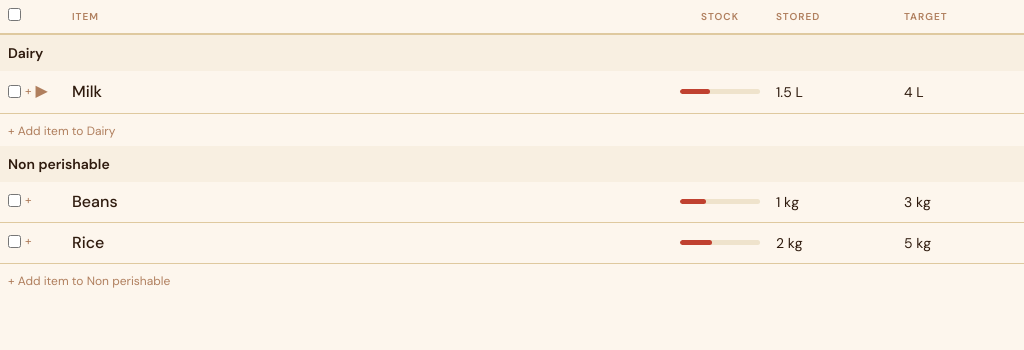
Scenario: InventoryTable › 20.5 — Per-category add button › clicking the button opens an inline NewItemRow with the category pre-filled
The width and height of the screenshot is (1024, 350).
Click the button "+ Add item to Dairy" at (62, 130), box [8,122,115,138]
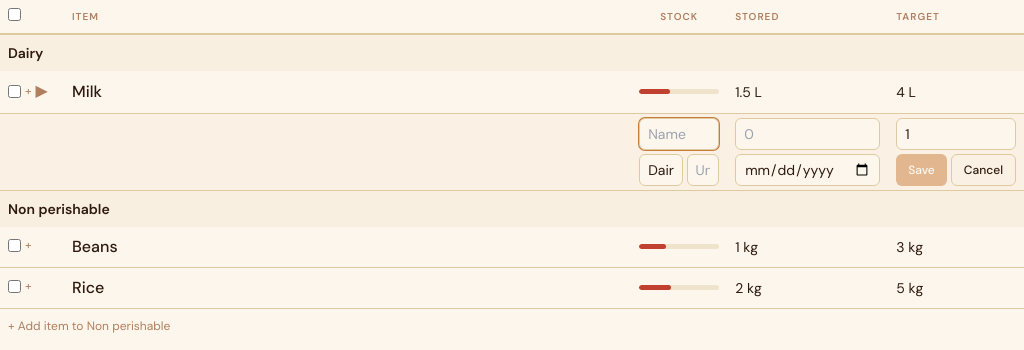
Result: the row with test id "new-item-row-Dairy" is shown at [0,113,1023,190]
Result: the field named "New item category" holds "Dairy" at [639,154,682,186]
